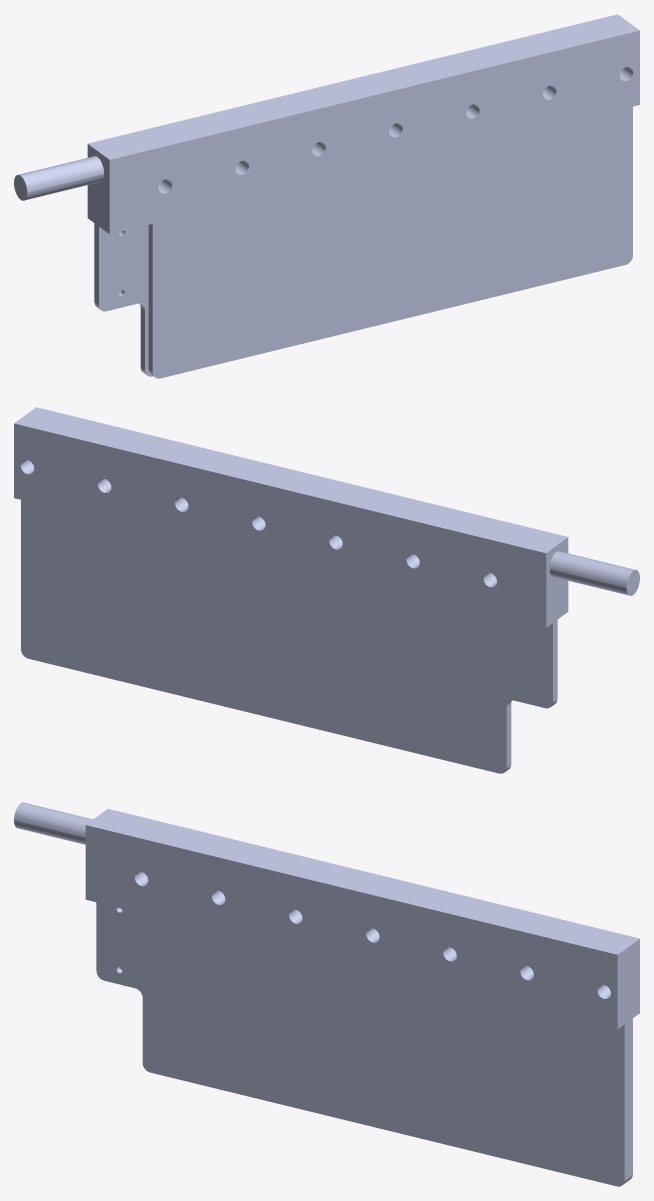
The model's file is MUA-6.glb.
3 renders of one model, top to bottom at view 1: azimuth 30°, elevation 25°; view 2: azimuth 150°, elevation 25°; view 3: azimuth 330°, elevation 25°, orthographic.
Visible parts, largest first — view 1: MUA-6_node_1; view 2: MUA-6_node_1; view 3: MUA-6_node_1.
Part boxes in pixels (x1,y1,x2,y2): MUA-6_node_1: [14, 14, 639, 378]; MUA-6_node_1: [14, 407, 639, 773]; MUA-6_node_1: [14, 802, 639, 1186].
Size of the model in its own units: 158 by 59.1 by 10.
